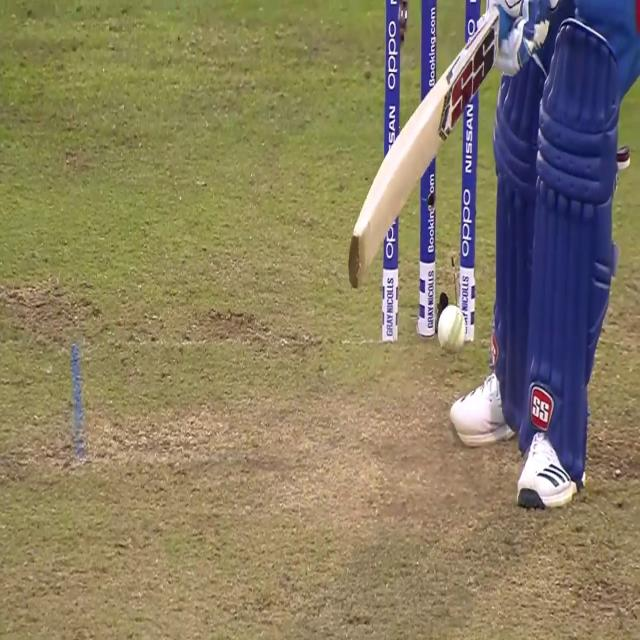ball: (437, 304, 467, 354)
